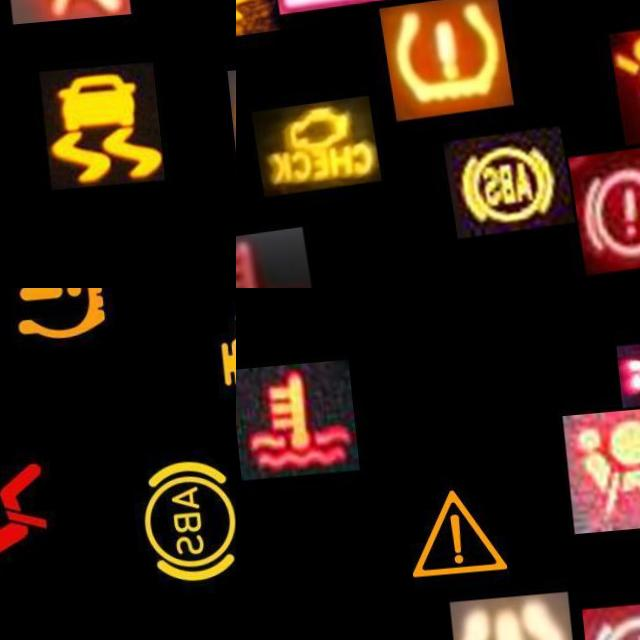Central Warning lamp: (386, 473, 514, 599)
Engine cooling system: (236, 361, 355, 480), (236, 229, 304, 288)
